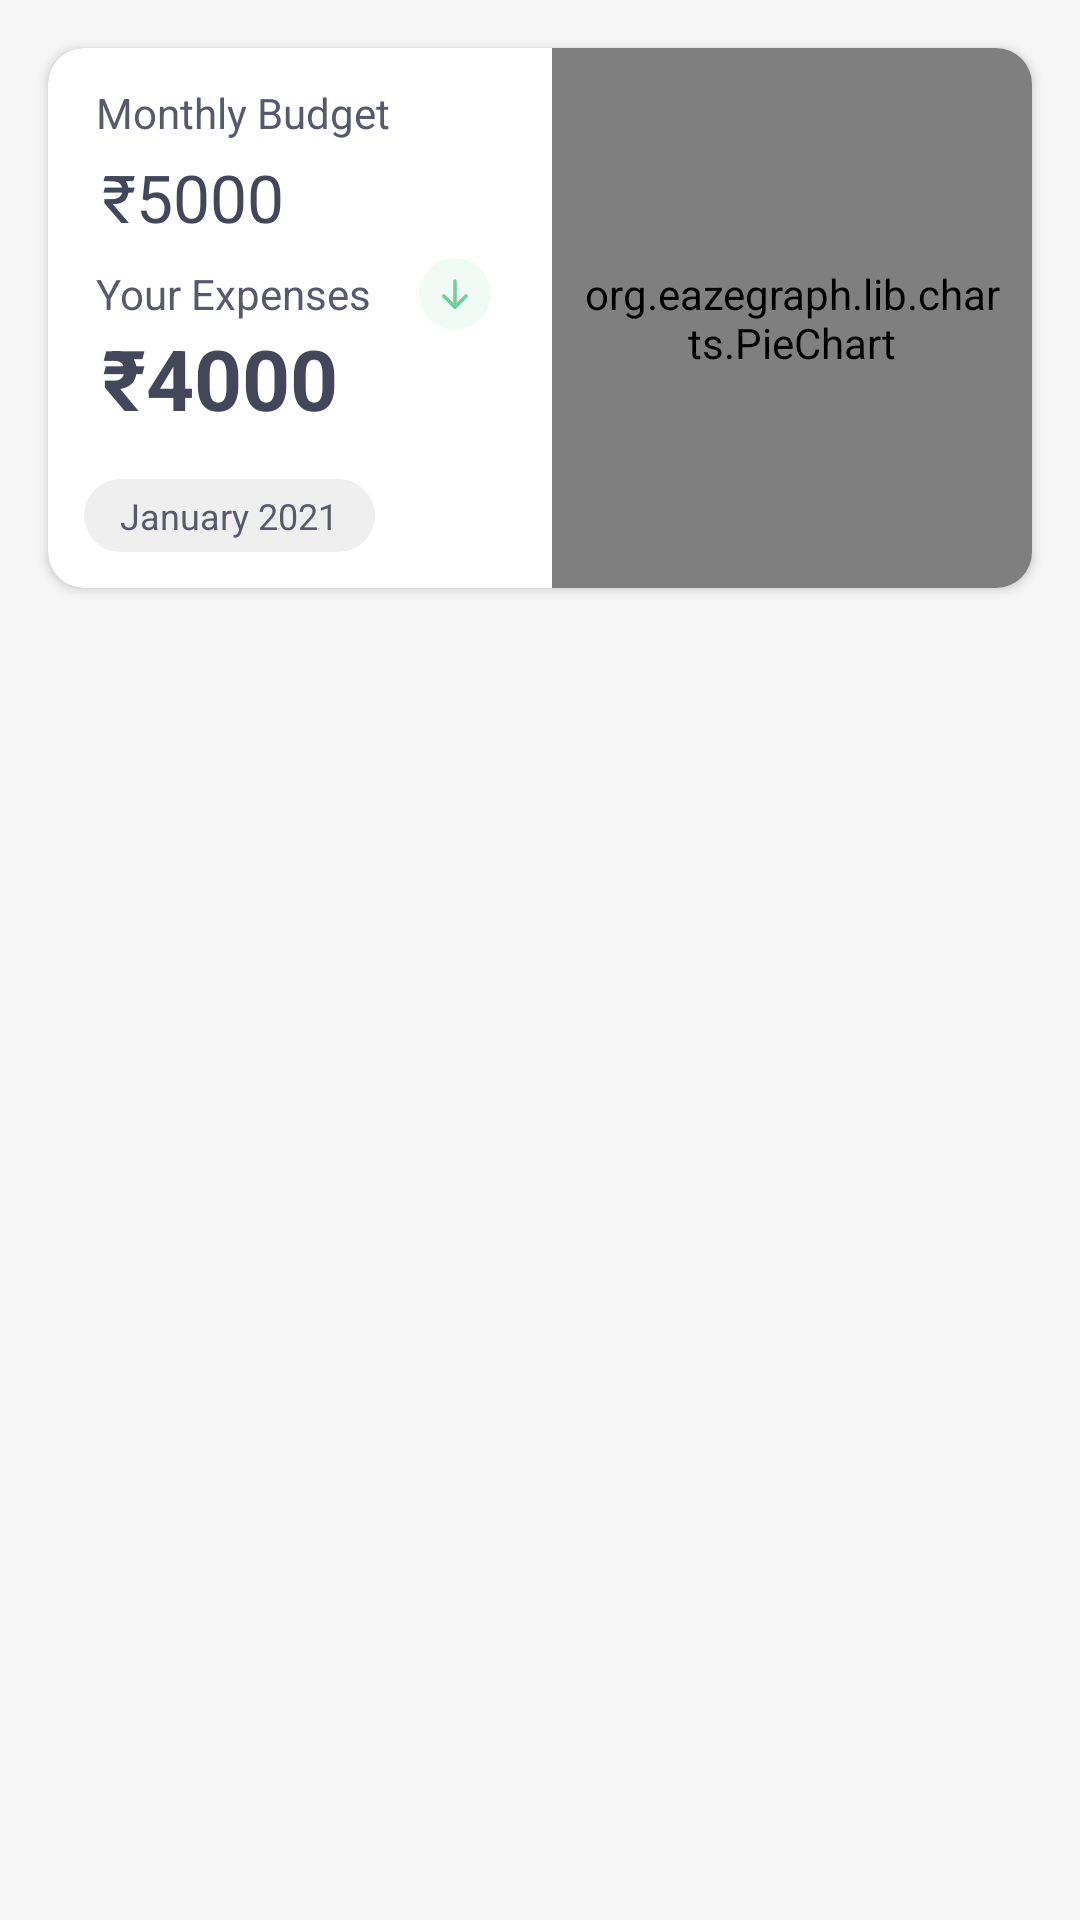

Named icons in this screenshot (1080px×1920px) and their centers, (x=x, y=y):
positive amount: (x=455, y=294)
